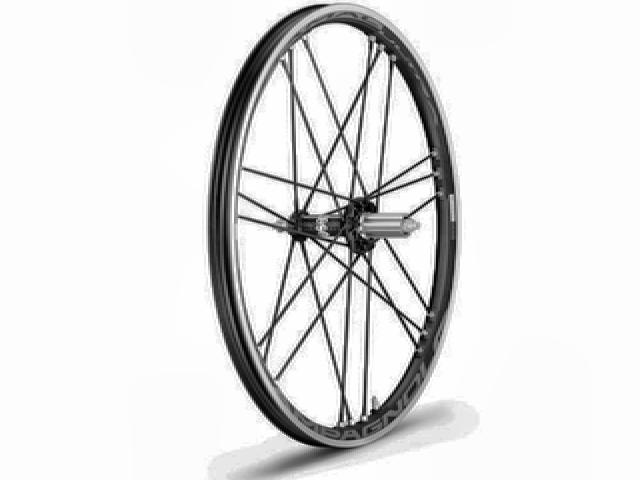wheel: (205, 1, 470, 450)
